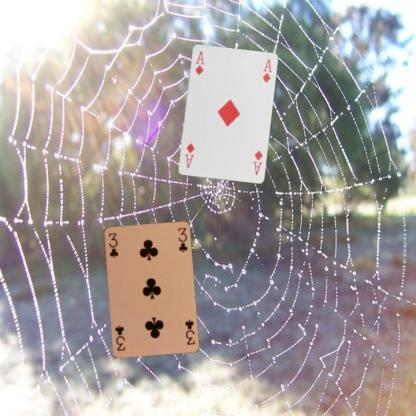3c: (182, 317, 196, 346), (106, 230, 119, 259)
Ad: (192, 48, 206, 76), (250, 148, 264, 176)
